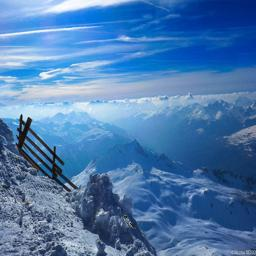Swallow: (124, 215, 137, 229)
